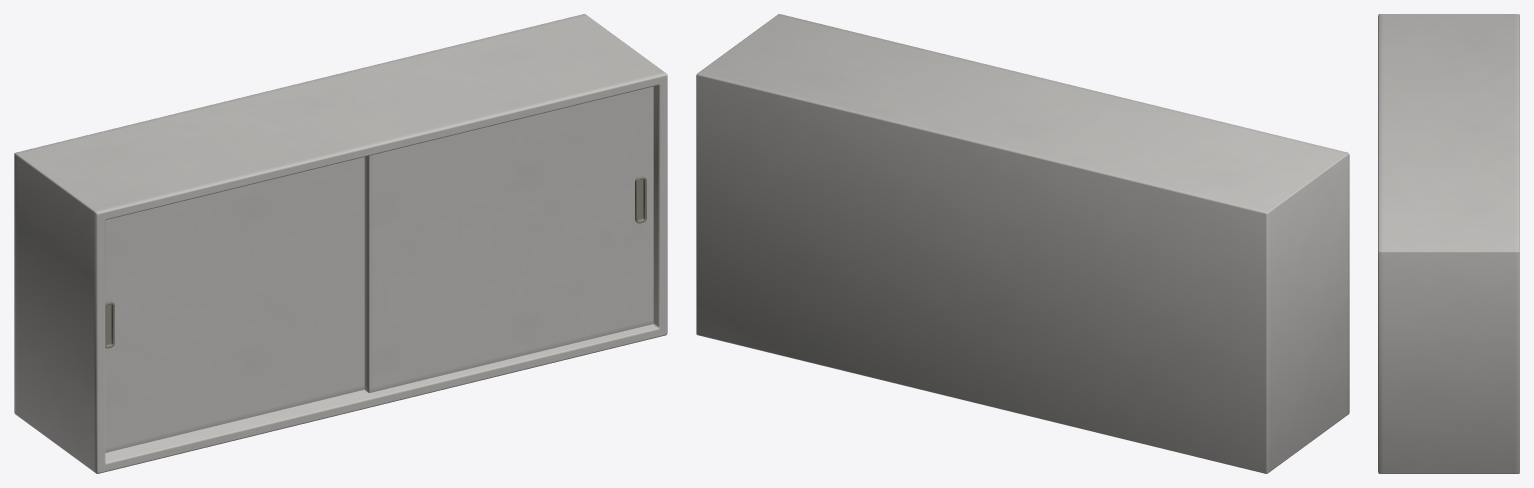
The model's file is Shelf_D.fbx.
The picture shows the model from 3 angles, left to right: view 1: azimuth 30°, elevation 25°; view 2: azimuth 150°, elevation 25°; view 3: azimuth 270°, elevation 25°; orthographic projection. The views are drawn at different scales.
Parts seen in each view (by area): view 1: Shelf_D; view 2: Shelf_D; view 3: Shelf_D.
Part boxes in pixels (left/top/right/bottom): Shelf_D: left=14, top=14, right=667, bottom=473; Shelf_D: left=696, top=14, right=1349, bottom=473; Shelf_D: left=1378, top=14, right=1519, bottom=473.
Size of the model in its own units: 3.49 by 1.53 by 0.8785.
